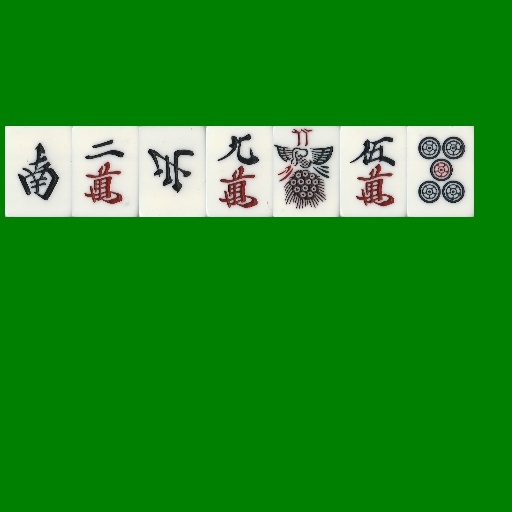1s: (273, 126, 340, 217)
2m: (72, 126, 139, 217)
5m: (340, 126, 407, 217)
5p: (407, 126, 474, 217)
9m: (206, 126, 273, 217)
north: (139, 126, 206, 217)
south: (5, 126, 72, 217)
